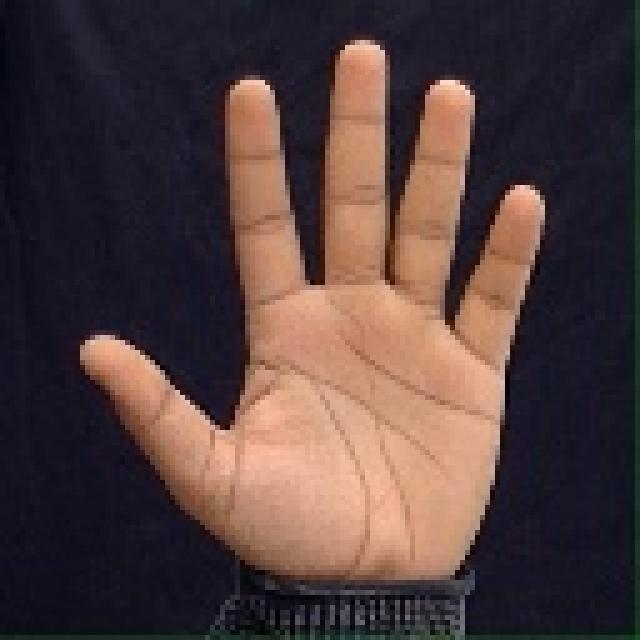Yes: (66, 20, 568, 602)
